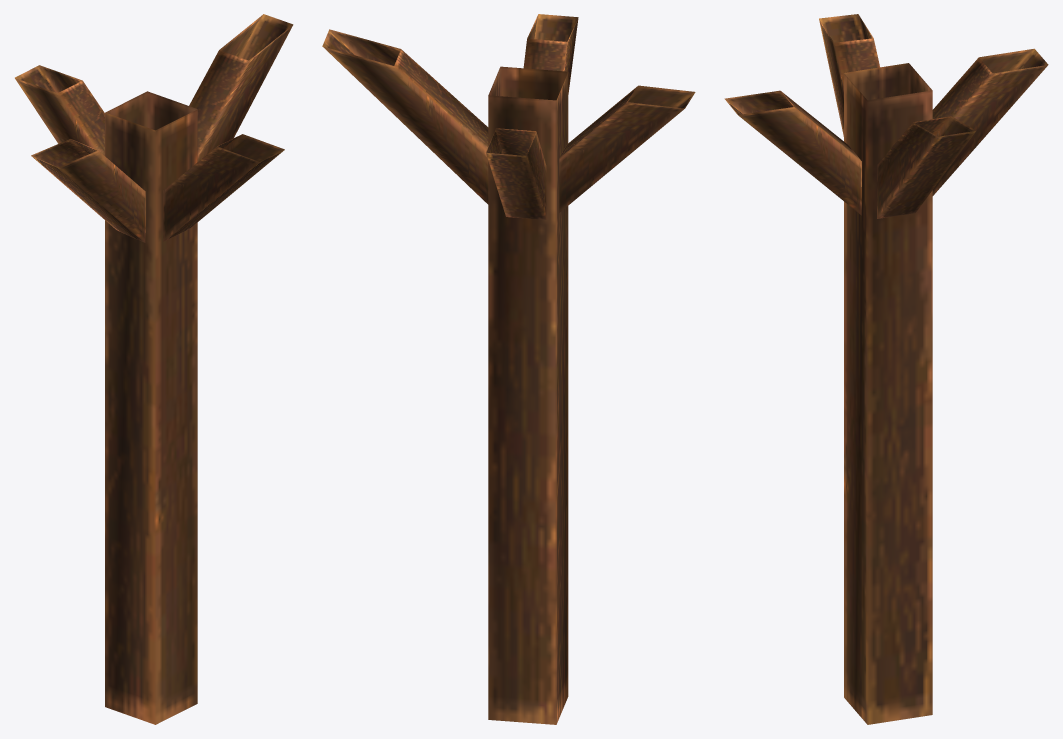
File: SWORDLIGHT20_JAILPLATSUPPORT55.fbx
The picture shows the model from 3 angles, left to right: view 1: azimuth 30°, elevation 25°; view 2: azimuth 150°, elevation 25°; view 3: azimuth 270°, elevation 25°; orthographic projection. The views are drawn at different scales.
Visible parts, largest first — view 1: SWORDLIGHT20_JAILPLATSUPPORT55; view 2: SWORDLIGHT20_JAILPLATSUPPORT55; view 3: SWORDLIGHT20_JAILPLATSUPPORT55.
Part boxes in pixels (box(x1,y1,x2,y2)): SWORDLIGHT20_JAILPLATSUPPORT55: box(15, 14, 293, 724); SWORDLIGHT20_JAILPLATSUPPORT55: box(322, 14, 695, 724); SWORDLIGHT20_JAILPLATSUPPORT55: box(724, 14, 1048, 724).
Bounding box in the file's own units: 21103 × 41782 × 18759.
Materials: 1 (1 with a texture image).
